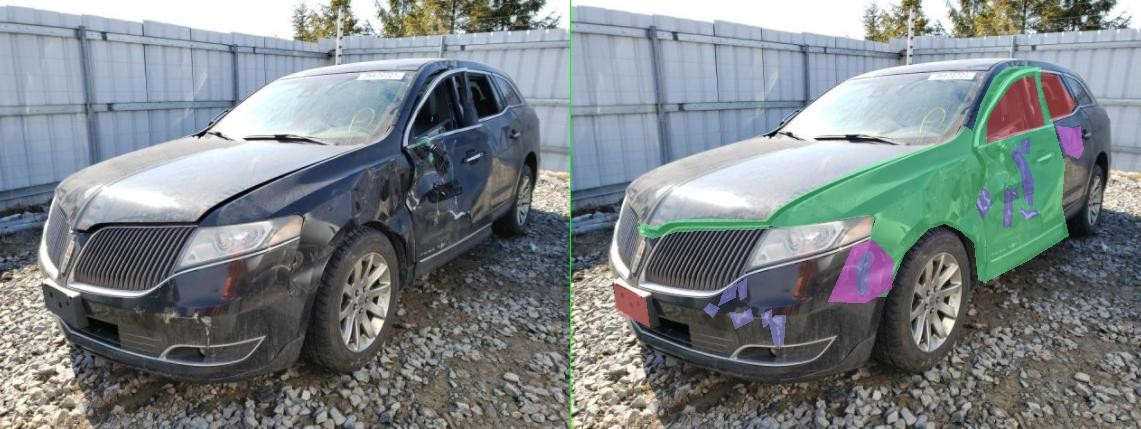Broken part: (382, 126, 831, 296), (795, 66, 995, 282), (132, 219, 394, 238)
Dent: (514, 240, 645, 302), (971, 126, 1025, 158)
Missing part: (833, 76, 947, 143), (941, 71, 1009, 120), (86, 284, 156, 326)
Scratch: (881, 146, 925, 205), (568, 251, 601, 294), (811, 187, 843, 219), (396, 315, 428, 345), (316, 308, 364, 328), (294, 282, 330, 305), (865, 188, 883, 227), (264, 303, 296, 317), (899, 207, 935, 219), (332, 278, 350, 299), (380, 309, 400, 327), (901, 137, 917, 153), (877, 187, 895, 198)
